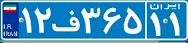character: (50, 6, 83, 37), (122, 1, 144, 37), (80, 2, 101, 37), (101, 2, 122, 37), (33, 5, 52, 36), (165, 12, 186, 37), (19, 4, 34, 36), (148, 11, 165, 37)
